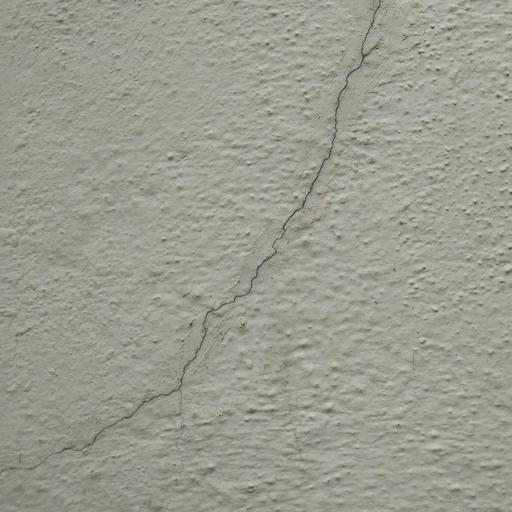minor_crack: (0, 0, 406, 479)
